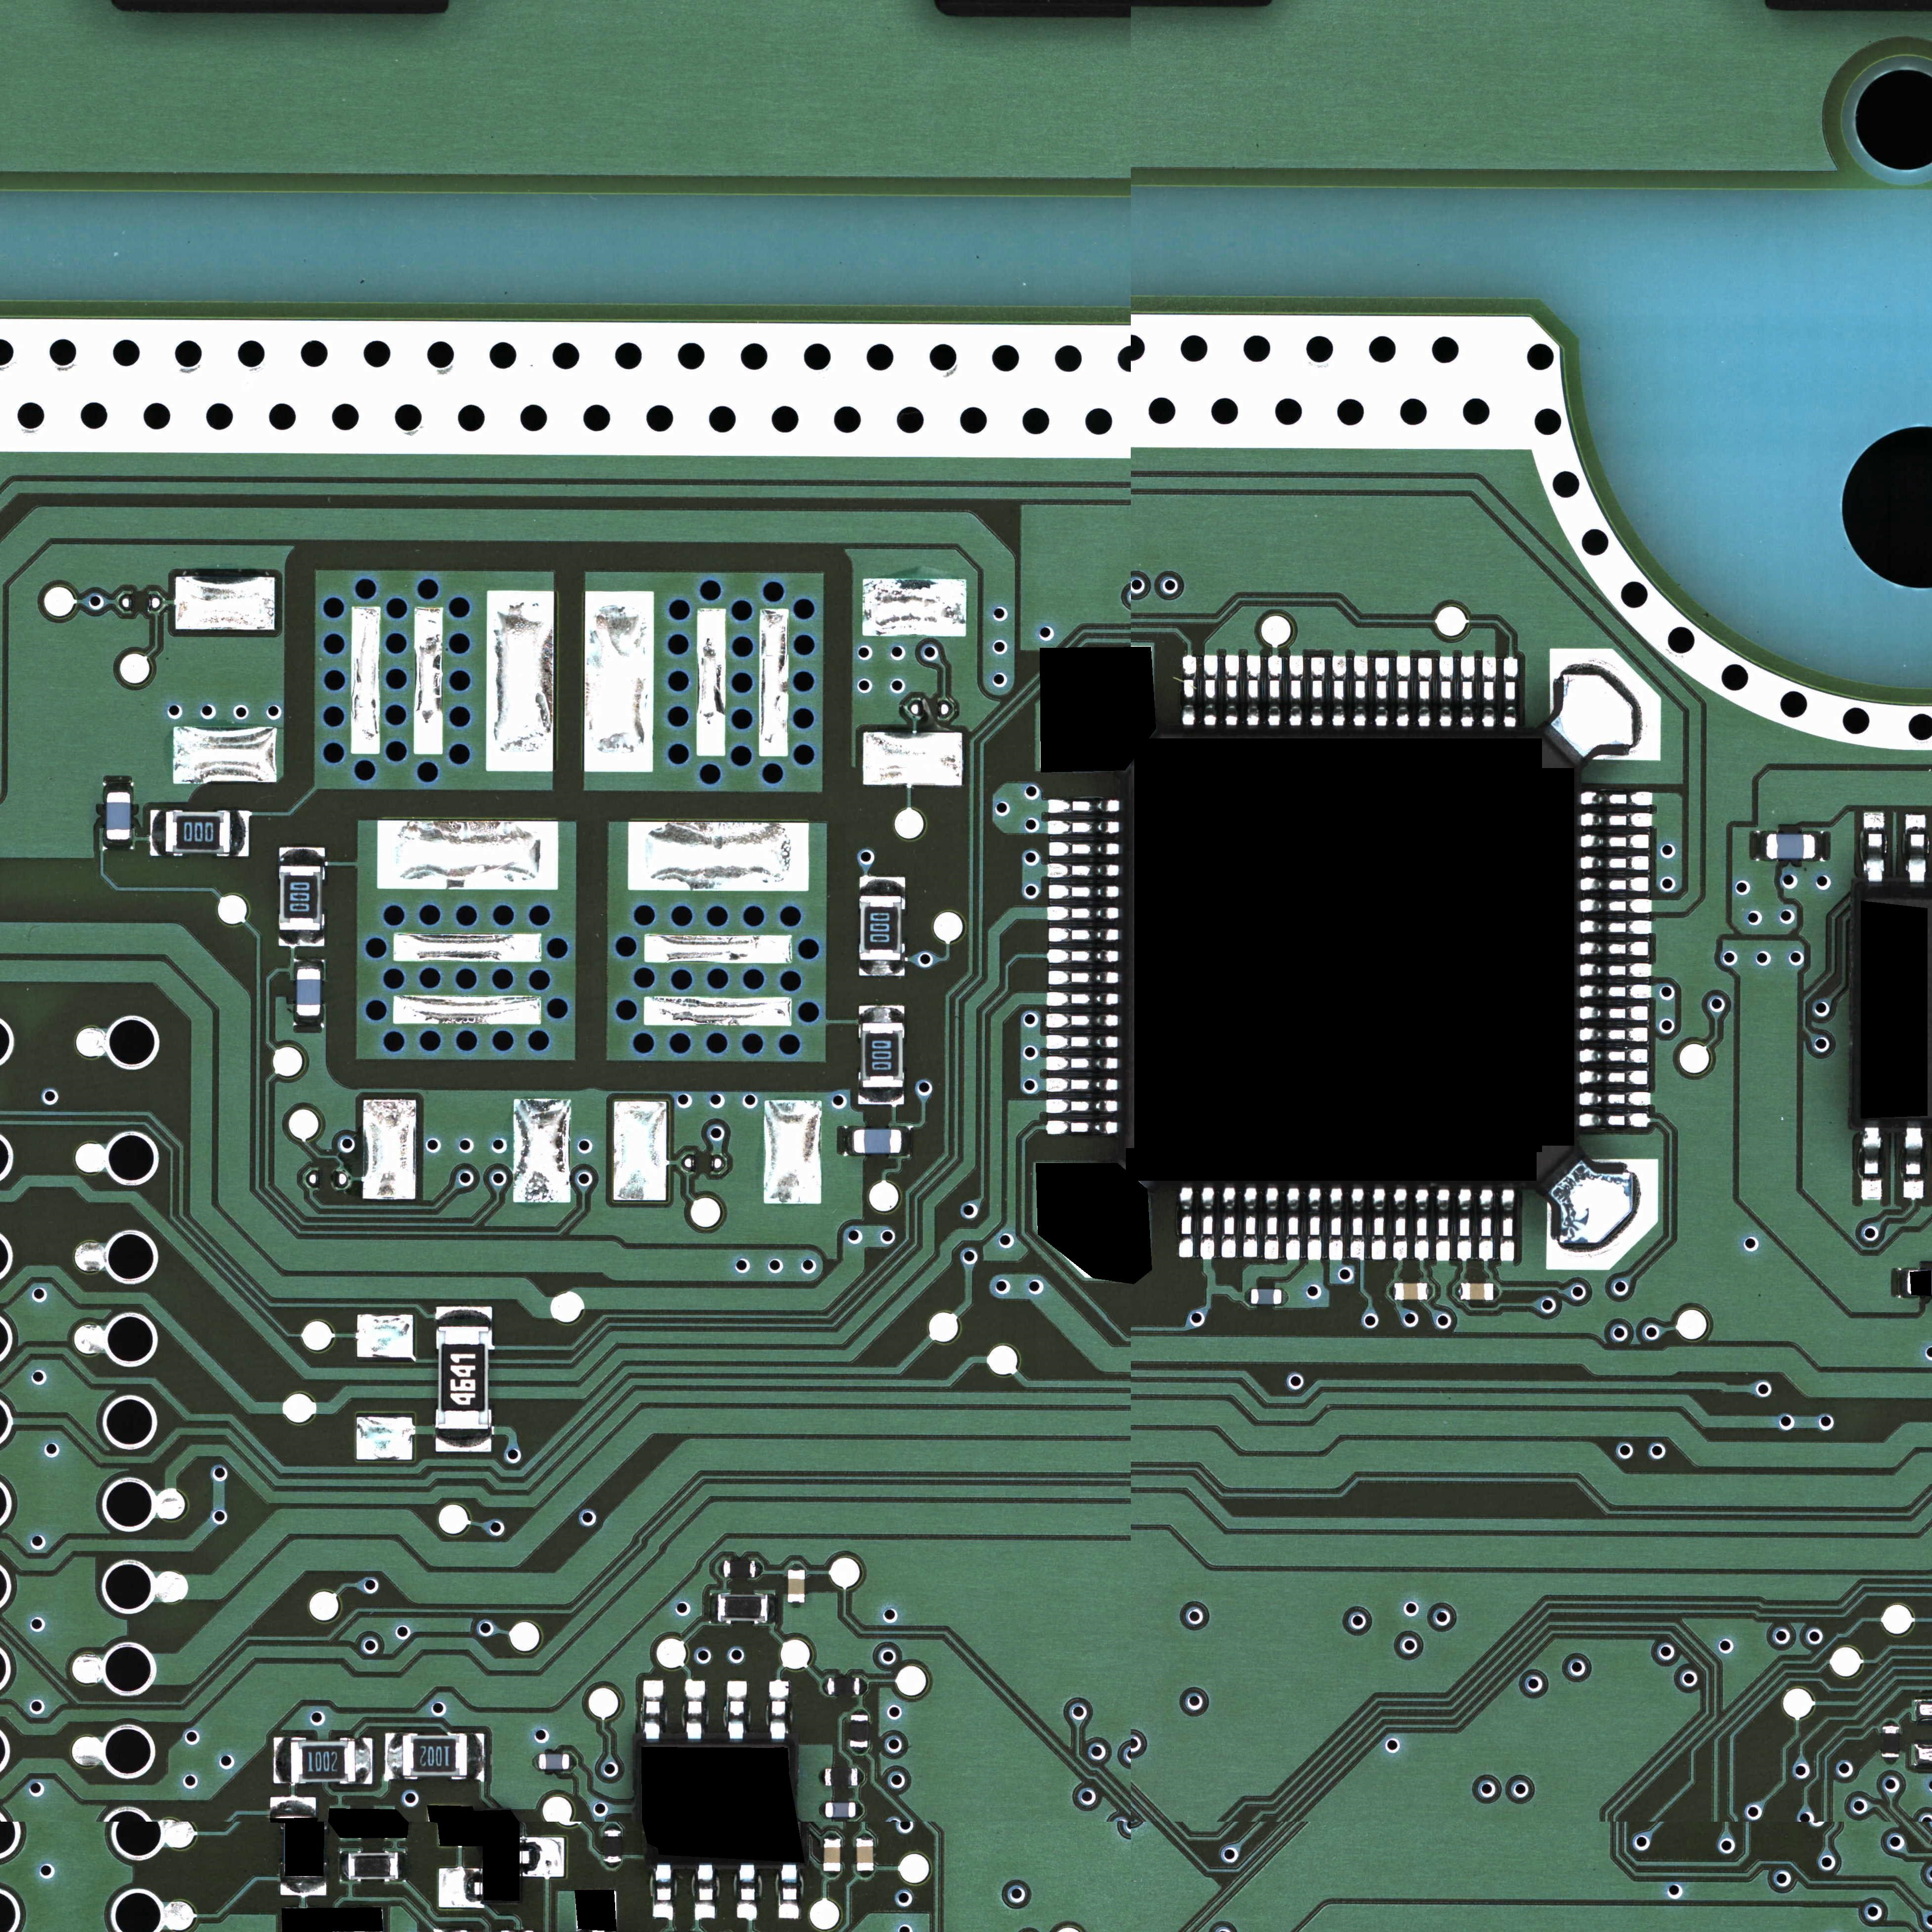Package: (437, 1327, 490, 1430), (290, 1741, 356, 1783), (402, 1734, 467, 1776), (165, 812, 228, 855), (862, 1023, 902, 1088), (862, 895, 902, 961), (281, 865, 320, 931), (718, 1594, 768, 1621), (1766, 833, 1815, 860), (349, 1854, 398, 1879), (106, 791, 131, 839), (855, 1129, 901, 1154), (297, 968, 320, 1016), (849, 1714, 869, 1746), (603, 1829, 621, 1863), (828, 1677, 862, 1695), (823, 1838, 840, 1872), (787, 1569, 805, 1603), (1394, 1283, 1428, 1300), (856, 1838, 874, 1870), (1461, 1283, 1493, 1300), (724, 1560, 755, 1578), (1881, 1727, 1898, 1757), (826, 1801, 856, 1817), (540, 1753, 570, 1769), (1251, 1290, 1281, 1304)
Solder: (1550, 648, 1661, 761), (1546, 1159, 1658, 1269), (520, 1836, 566, 1877), (439, 1868, 483, 1909), (1863, 812, 1886, 883), (1904, 1125, 1925, 1200), (1859, 1127, 1881, 1198), (1905, 814, 1927, 883), (642, 1679, 663, 1741), (685, 1679, 706, 1741), (768, 1681, 789, 1741), (694, 1865, 717, 1918), (727, 1679, 747, 1741), (435, 1431, 490, 1453), (1580, 833, 1651, 849), (1580, 876, 1651, 892), (1580, 918, 1651, 934), (1580, 962, 1651, 978), (1580, 984, 1651, 1000), (1580, 1113, 1651, 1129), (1047, 927, 1118, 943), (653, 1865, 674, 1918), (1582, 812, 1651, 828), (1582, 855, 1651, 870), (1580, 1005, 1649, 1021), (1580, 1026, 1649, 1042), (1580, 1047, 1647, 1063), (437, 1306, 492, 1325), (738, 1865, 757, 1920), (1458, 1187, 1472, 1261), (780, 1865, 800, 1918), (1500, 1189, 1514, 1261), (1371, 1187, 1385, 1260), (1329, 1187, 1343, 1260), (1046, 1099, 1118, 1113), (1046, 1056, 1118, 1070), (1047, 821, 1120, 835), (1047, 863, 1120, 878), (1047, 906, 1120, 920), (1047, 948, 1120, 962), (1580, 899, 1651, 913), (1479, 1189, 1493, 1260), (1435, 1189, 1449, 1260), (1415, 1189, 1430, 1260), (1394, 1189, 1408, 1260), (1350, 1189, 1364, 1260), (1307, 1189, 1322, 1260), (1263, 1189, 1277, 1260), (1221, 1187, 1235, 1258), (1178, 1187, 1192, 1258), (1047, 1120, 1118, 1134), (1047, 1077, 1118, 1092), (1047, 971, 1118, 985), (1047, 993, 1118, 1007), (1047, 1014, 1118, 1028), (1047, 1035, 1118, 1049), (1047, 800, 1118, 814), (1047, 842, 1118, 856), (1047, 885, 1118, 899), (1353, 656, 1368, 727), (1483, 656, 1497, 727), (1504, 656, 1518, 727), (1582, 791, 1651, 805), (1580, 941, 1649, 955), (1580, 1070, 1649, 1085), (1580, 1092, 1649, 1106), (1203, 656, 1217, 725), (1226, 656, 1240, 725), (1269, 656, 1283, 725), (1332, 656, 1346, 725), (1375, 656, 1389, 725), (1460, 656, 1474, 725), (1311, 658, 1325, 725), (1417, 658, 1431, 725), (1286, 1187, 1299, 1260), (860, 876, 906, 895), (280, 847, 326, 867), (271, 1796, 317, 1815), (384, 1732, 402, 1782), (1244, 1189, 1256, 1260), (1201, 1187, 1214, 1258), (1290, 655, 1302, 725), (1398, 656, 1410, 727), (1184, 656, 1196, 725), (1247, 656, 1260, 725), (1440, 656, 1453, 725), (467, 1732, 485, 1780), (356, 1737, 373, 1783), (858, 1088, 904, 1106), (272, 1737, 288, 1783), (278, 931, 324, 947), (858, 1007, 904, 1023), (232, 812, 248, 856), (281, 1879, 326, 1895), (858, 961, 906, 975), (150, 810, 165, 856), (1815, 832, 1828, 862), (1755, 832, 1766, 862), (398, 1851, 409, 1881), (104, 782, 131, 793), (1898, 1269, 1907, 1300), (338, 1852, 349, 1879), (844, 1125, 853, 1155), (294, 1017, 322, 1026), (295, 959, 324, 968), (902, 1127, 911, 1155), (768, 1594, 775, 1624), (711, 1594, 718, 1622), (104, 840, 133, 847), (568, 1750, 575, 1771), (849, 1746, 869, 1753), (1244, 1288, 1251, 1306), (787, 1562, 805, 1569), (1283, 1288, 1290, 1306), (1881, 1757, 1898, 1764), (1881, 1718, 1898, 1725), (534, 1753, 541, 1769), (858, 1870, 874, 1877), (856, 1801, 863, 1817), (819, 1769, 826, 1785), (754, 1560, 761, 1576), (823, 1675, 828, 1695), (849, 1709, 869, 1714), (1493, 1284, 1500, 1299), (862, 1677, 867, 1695), (603, 1863, 621, 1868), (603, 1824, 621, 1829), (824, 1833, 840, 1838), (856, 1833, 872, 1838), (819, 1801, 824, 1817), (858, 1769, 863, 1785), (718, 1560, 724, 1576), (824, 1872, 839, 1877), (1389, 1284, 1394, 1299), (1428, 1284, 1433, 1299), (1456, 1284, 1461, 1297), (791, 1603, 801, 1608)
